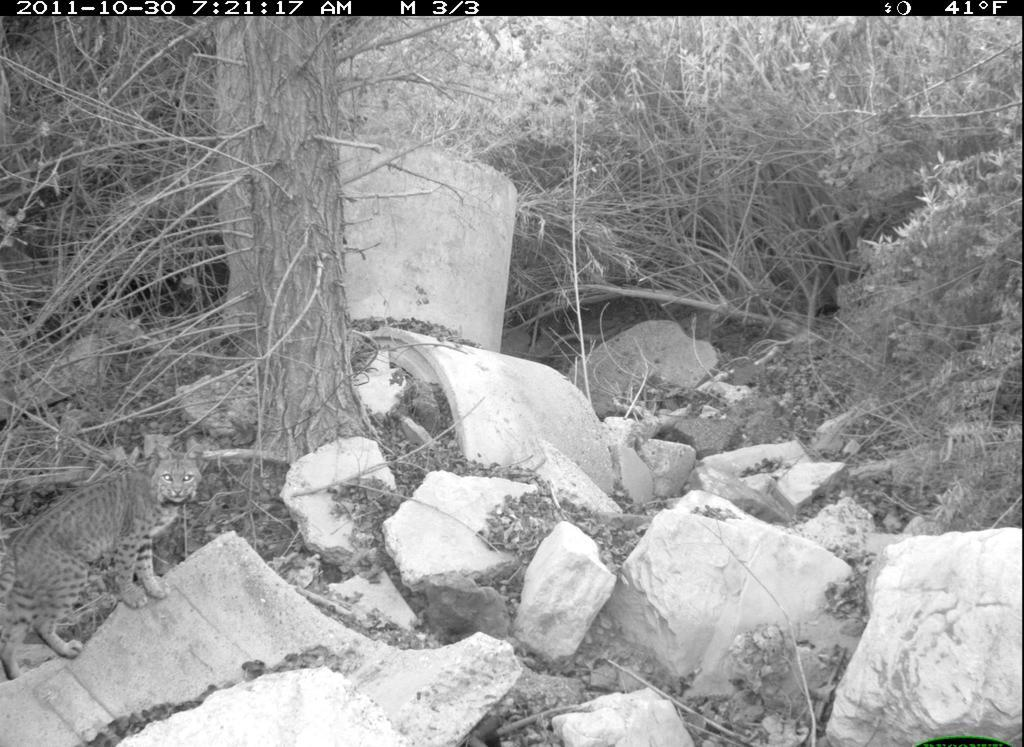bobcat: (2, 442, 198, 670)
